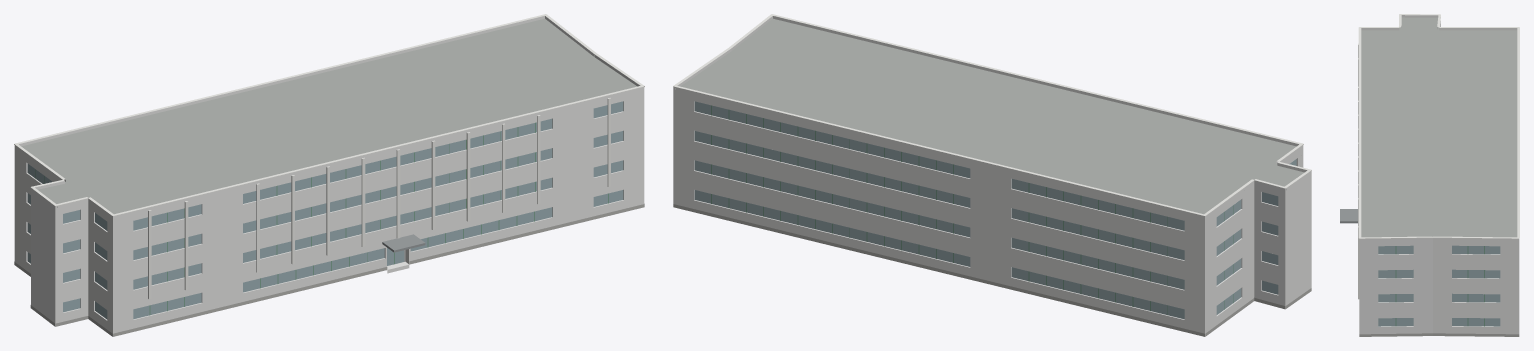
The picture shows the model from 3 angles, left to right: view 1: azimuth 30°, elevation 25°; view 2: azimuth 150°, elevation 25°; view 3: azimuth 270°, elevation 25°; orthographic projection. The views are drawn at different scales.
Visible parts, largest first — view 1: b115951758__wall, b115951758__roof, b115951758__glass, b115951758__trim, b115951758__parapet, b115951758__base, b115951758__frame, b115951758__canopy; view 2: b115951758__wall, b115951758__roof, b115951758__glass, b115951758__parapet, b115951758__trim, b115951758__base, b115951758__frame; view 3: b115951758__roof, b115951758__wall, b115951758__glass, b115951758__trim, b115951758__parapet, b115951758__base, b115951758__canopy, b115951758__frame.
Part boxes in pixels (box(x1,y1,x2,y2)): b115951758__wall: box(14, 89, 644, 336); b115951758__roof: box(21, 18, 636, 214); b115951758__glass: box(27, 101, 623, 319); b115951758__trim: box(14, 14, 644, 299); b115951758__parapet: box(14, 16, 644, 218); b115951758__base: box(14, 204, 644, 336); b115951758__frame: box(35, 122, 608, 315); b115951758__canopy: box(382, 234, 425, 252); b115951758__wall: box(673, 89, 1311, 336); b115951758__roof: box(680, 18, 1304, 214); b115951758__glass: box(694, 101, 1296, 319); b115951758__parapet: box(673, 16, 1311, 218); b115951758__trim: box(673, 14, 1311, 216); b115951758__base: box(673, 204, 1311, 336); b115951758__frame: box(711, 105, 1233, 314); b115951758__roof: box(1361, 17, 1517, 336); b115951758__wall: box(1359, 21, 1519, 334); b115951758__glass: box(1378, 245, 1500, 326); b115951758__trim: box(1358, 14, 1519, 299); b115951758__parapet: box(1359, 15, 1519, 240); b115951758__base: box(1359, 333, 1519, 336); b115951758__canopy: box(1340, 209, 1357, 223); b115951758__frame: box(1395, 246, 1484, 326).
Bounding box in the file's own units: 72.14 × 15.15 × 24.4.
